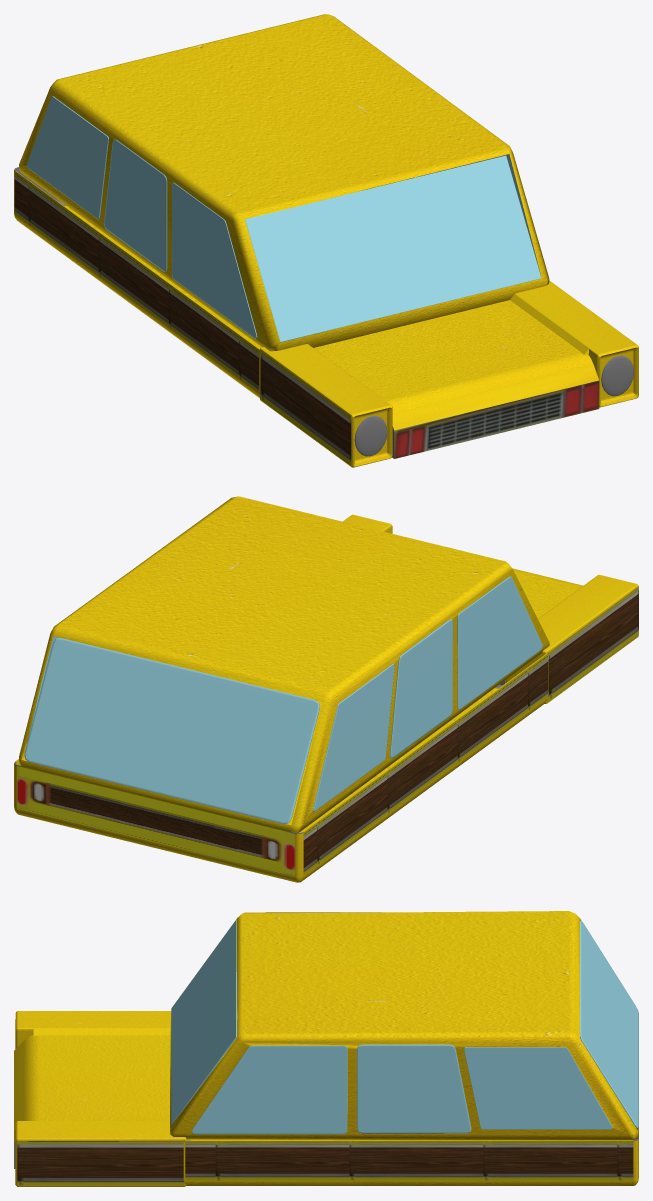
File: car.obj
3 renders of one model, top to bottom at view 1: azimuth 30°, elevation 25°; view 2: azimuth 150°, elevation 25°; view 3: azimuth 270°, elevation 25°, orthographic. The views are drawn at different scales.
Parts seen in each view (by area): view 1: pasted__polySurface2 group7, pCube10, pCube1, pCube8, pasted__pCube2 group, polySurface3 pasted__pCube4 group8, polySurface7 pasted__pCube6 group10, pasted__pCube5 group9 polySurface12, pCube2, pasted__pCube6 group10 polySurface11, pasted__pCube5 group9 polySurface5, pSphere1 (+2 smaller); view 2: pasted__polySurface2 group7, pCube7, pCube8, pasted__pCube2 group, polySurface3 pasted__pCube4 group8, polySurface7 pasted__pCube6 group10, pasted__pCube5 group9 polySurface12, pasted__pCube5 group9 polySurface5, pasted__pCube6 group10 polySurface11, pCube1; view 3: pasted__polySurface2 group7, pCube8, pCube1, pasted__pCube4 group8 polySurface2, pCube2, pasted__pCube6 group10 polySurface10, polySurface9 pasted__pCube5 group9, pCube10, pCube7, pasted__pCube4 group8 polySurface8, pasted__pCube6 group10 polySurface6, pasted__pCube5 group9 polySurface4 (+2 smaller).
Boxes of the visible parts, <box> form: pasted__polySurface2 group7: <box>19,14,549,351</box>; pCube10: <box>245,155,541,342</box>; pCube1: <box>314,300,599,458</box>; pCube8: <box>14,167,395,397</box>; pasted__pCube2 group: <box>259,344,392,467</box>; polySurface3 pasted__pCube4 group8: <box>172,182,257,338</box>; polySurface7 pasted__pCube6 group10: <box>27,96,106,218</box>; pasted__pCube5 group9 polySurface12: <box>107,139,167,271</box>; pCube2: <box>515,280,638,407</box>; pasted__pCube6 group10 polySurface11: <box>28,97,108,219</box>; pasted__pCube5 group9 polySurface5: <box>104,139,164,271</box>; pSphere1: <box>601,355,633,396</box>; pasted__polySurface2 group7: <box>19,496,549,832</box>; pCube7: <box>24,638,319,824</box>; pCube8: <box>14,652,548,882</box>; pasted__pCube2 group: <box>506,574,638,703</box>; polySurface3 pasted__pCube4 group8: <box>457,576,542,709</box>; polySurface7 pasted__pCube6 group10: <box>313,664,393,811</box>; pasted__pCube5 group9 polySurface12: <box>393,619,453,753</box>; pasted__pCube5 group9 polySurface5: <box>390,619,450,758</box>; pasted__pCube6 group10 polySurface11: <box>315,663,394,808</box>; pCube1: <box>499,568,582,685</box>; pasted__polySurface2 group7: <box>170,911,638,1140</box>; pCube8: <box>183,1020,638,1185</box>; pCube1: <box>14,1035,170,1168</box>; pasted__pCube4 group8 polySurface2: <box>195,1045,347,1134</box>; pCube2: <box>15,1121,186,1186</box>; pasted__pCube6 group10 polySurface10: <box>464,1047,610,1129</box>; polySurface9 pasted__pCube5 group9: <box>357,1044,466,1133</box>; pCube10: <box>171,920,236,1124</box>; pCube7: <box>580,920,638,1127</box>; pasted__pCube4 group8 polySurface8: <box>192,1045,343,1134</box>; pasted__pCube6 group10 polySurface6: <box>466,1047,612,1129</box>; pasted__pCube5 group9 polySurface4: <box>362,1044,471,1133</box>.
Size of the model in its own units: 5.19 by 2.85 by 10.6.
Materials: 14 (13 with a texture image).
